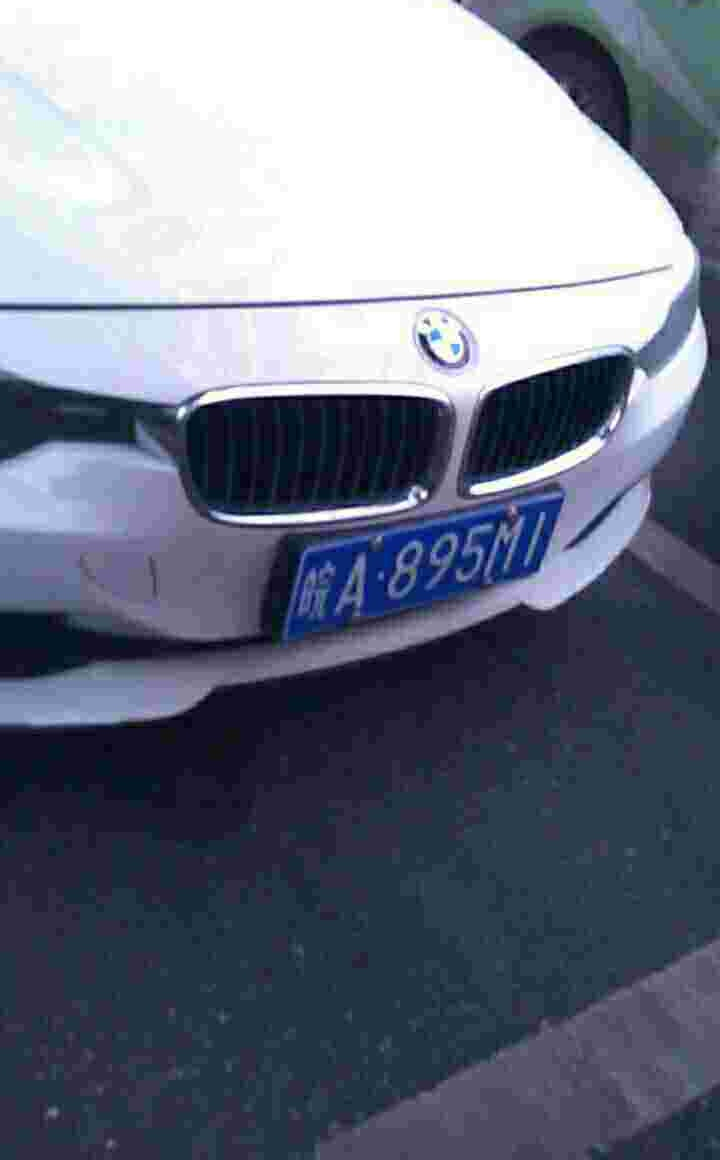car: (291, 509, 572, 607)
